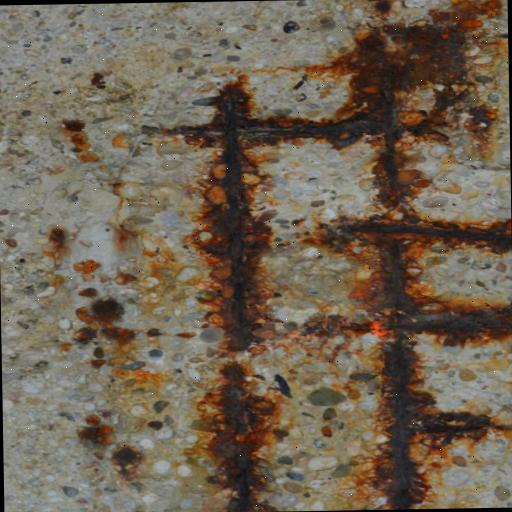spalling: (97, 23, 511, 494)
